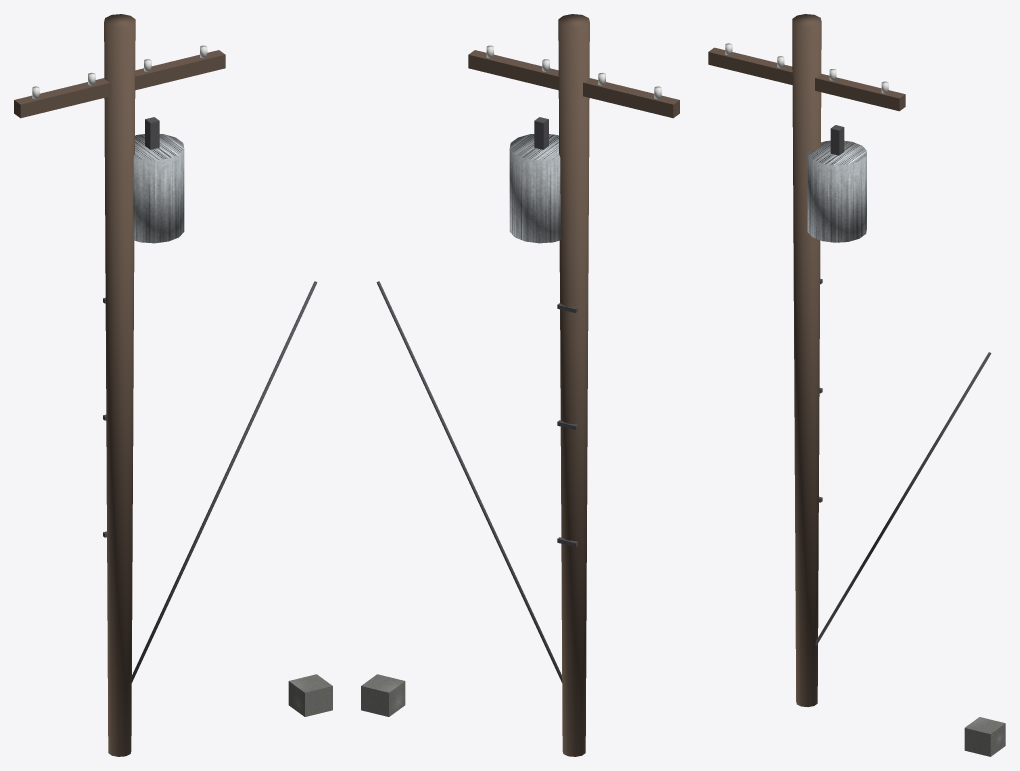
File: WK_PRP_TelephonePole.glb
The picture shows the model from 3 angles, left to right: view 1: azimuth 30°, elevation 25°; view 2: azimuth 150°, elevation 25°; view 3: azimuth 330°, elevation 25°; orthographic projection. The views are drawn at different scales.
Parts seen in each view (by area): view 1: WK_PRP_TelephonePole_P01, WK_PRP_TelephonePole_P07, WK_PRP_TelephonePole_P02, WK_PRP_TelephonePole_P12, WK_PRP_TelephonePole_P13; view 2: WK_PRP_TelephonePole_P01, WK_PRP_TelephonePole_P07, WK_PRP_TelephonePole_P02, WK_PRP_TelephonePole_P12, WK_PRP_TelephonePole_P13; view 3: WK_PRP_TelephonePole_P01, WK_PRP_TelephonePole_P07, WK_PRP_TelephonePole_P02, WK_PRP_TelephonePole_P13, WK_PRP_TelephonePole_P12.
Part boxes in pixels (x1,y1,x2,y2): WK_PRP_TelephonePole_P01: (104,14,135,756); WK_PRP_TelephonePole_P07: (133,134,184,243); WK_PRP_TelephonePole_P02: (14,50,225,118); WK_PRP_TelephonePole_P12: (131,281,317,682); WK_PRP_TelephonePole_P13: (288,674,332,716); WK_PRP_TelephonePole_P01: (558,14,589,756); WK_PRP_TelephonePole_P07: (509,134,560,243); WK_PRP_TelephonePole_P02: (468,50,679,118); WK_PRP_TelephonePole_P12: (376,281,562,682); WK_PRP_TelephonePole_P13: (361,674,405,716); WK_PRP_TelephonePole_P01: (792,14,821,706); WK_PRP_TelephonePole_P07: (807,140,866,242); WK_PRP_TelephonePole_P02: (708,47,905,111); WK_PRP_TelephonePole_P13: (964,717,1005,756); WK_PRP_TelephonePole_P12: (815,352,991,645).
Bounding box in the file's own units: 3.3 × 7.52 × 0.6.
Materials: 5 (2 with a texture image).
